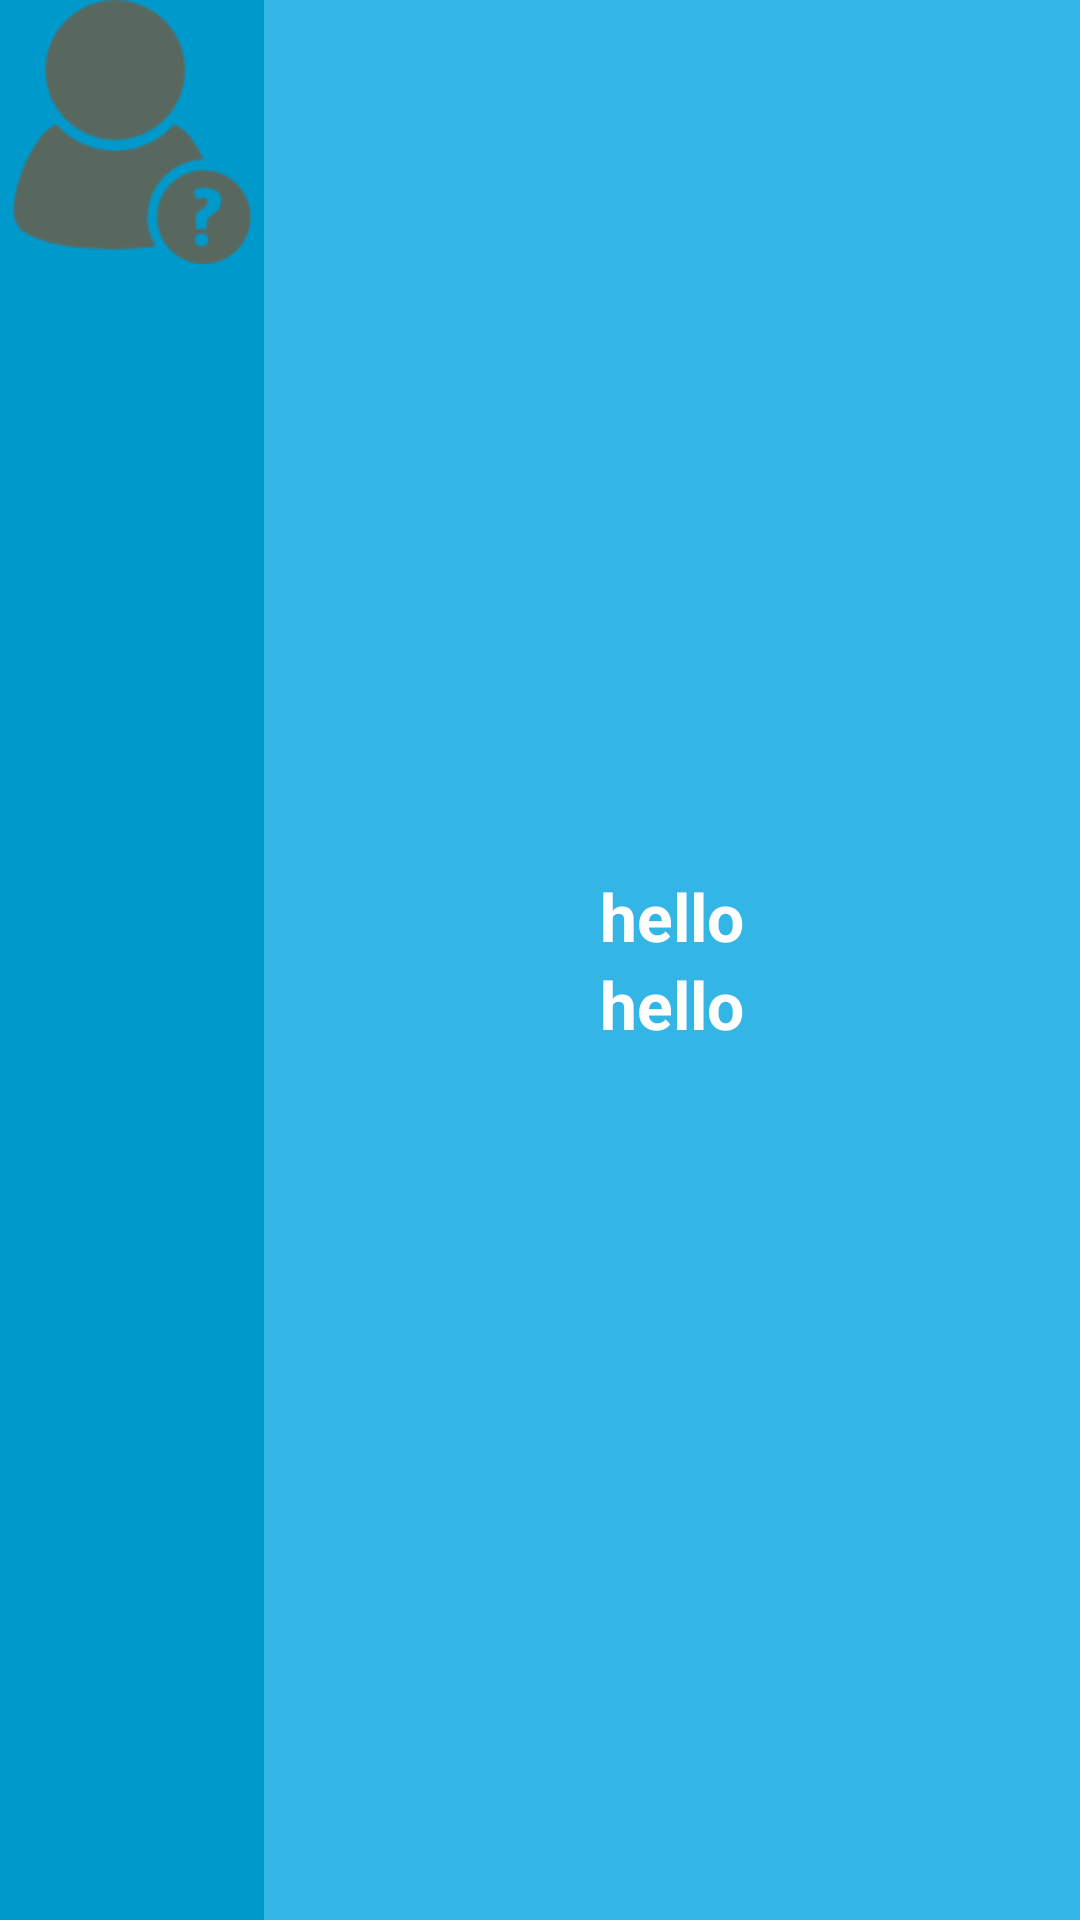

Screen size 1080 × 1920. Icon name, then its center in pixels as (x=x, y=y):
unknown: (x=132, y=132)
